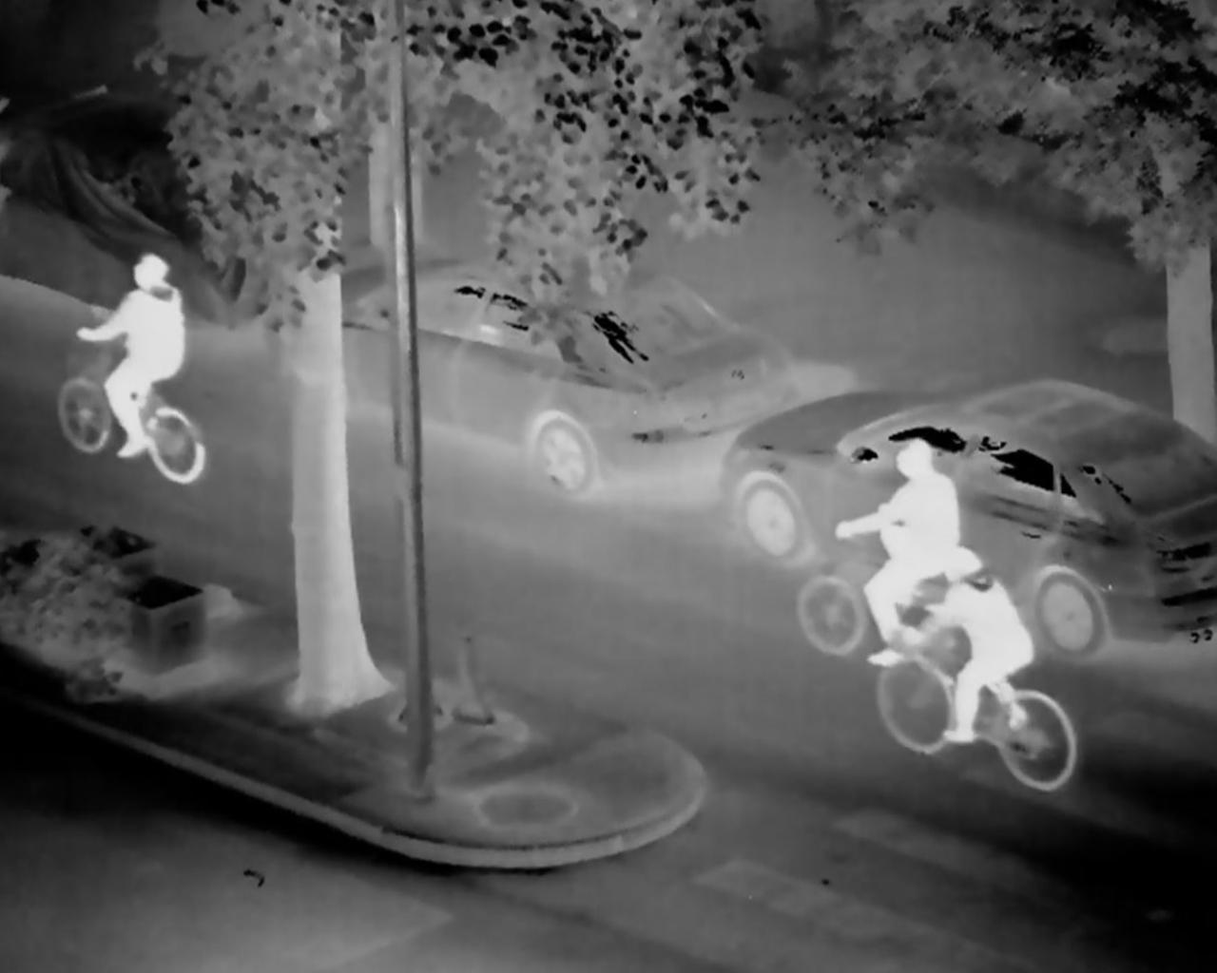person: (830, 439, 964, 670), (67, 250, 187, 477), (926, 551, 1037, 741)
